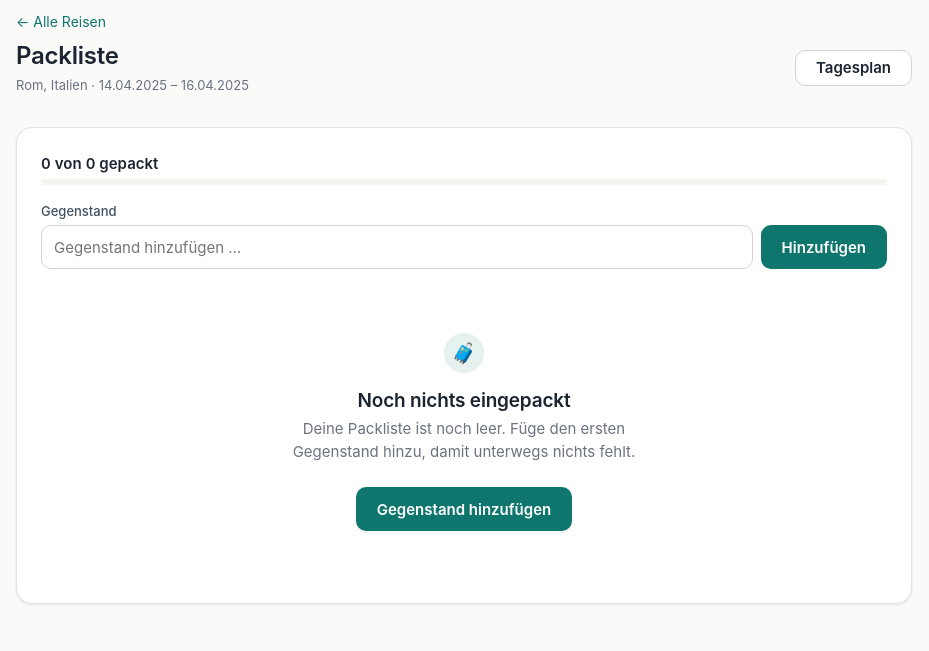
Test: PackingPage › clears the error as soon as the input becomes valid
The image size is (929, 651).
Click the button "Hinzufügen" at (824, 247), box [761,225,887,269]
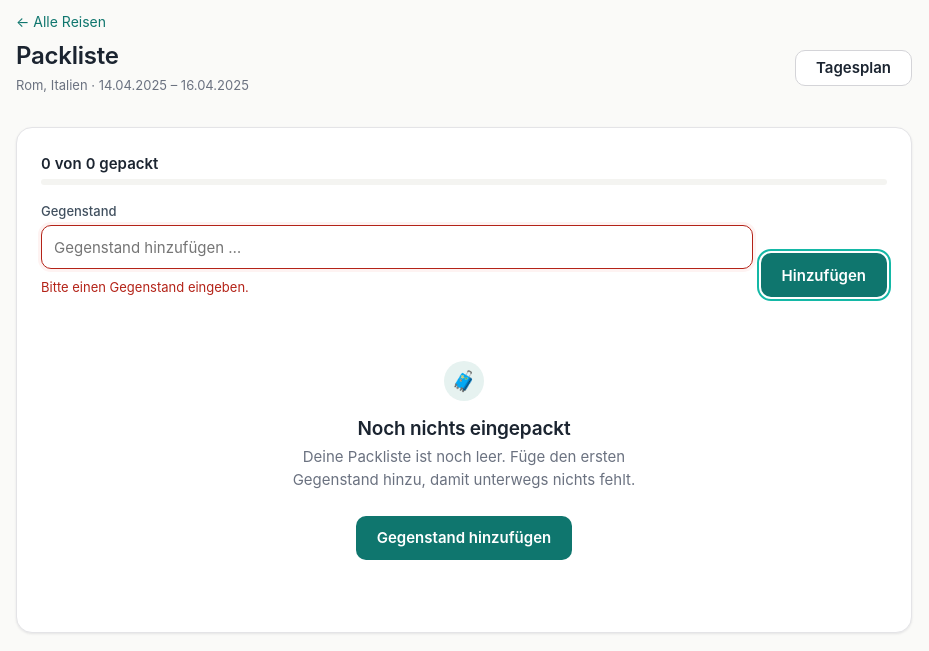
Result: the text "Bitte einen Gegenstand eingeben." is shown at [41,279,249,295]
Type "Reisepass" into the field labelled "Gegenstand" at (397, 247), box [41,225,753,269]
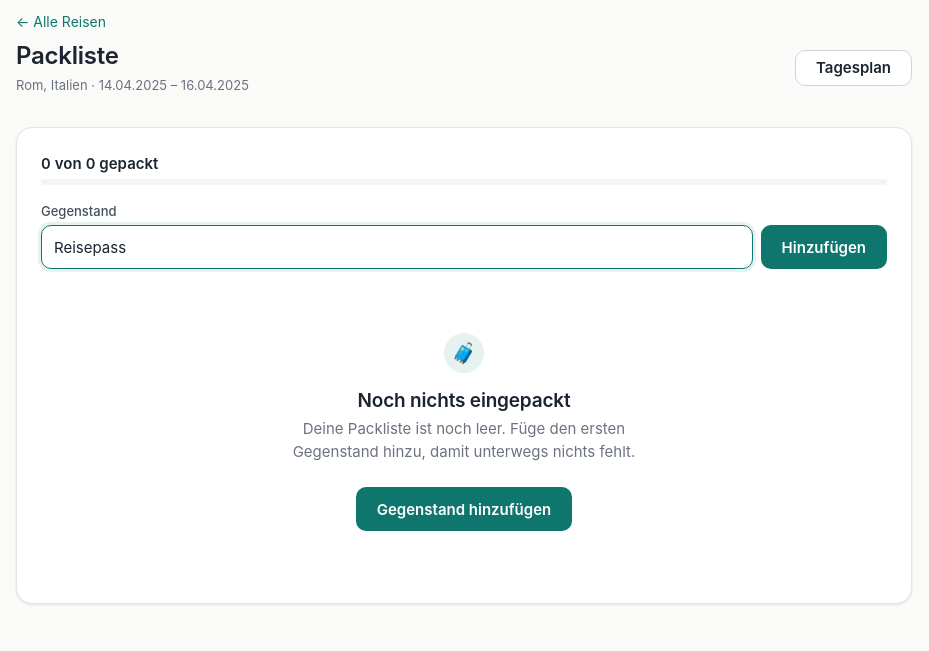
Result: the text "Bitte einen Gegenstand eingeben." is gone
